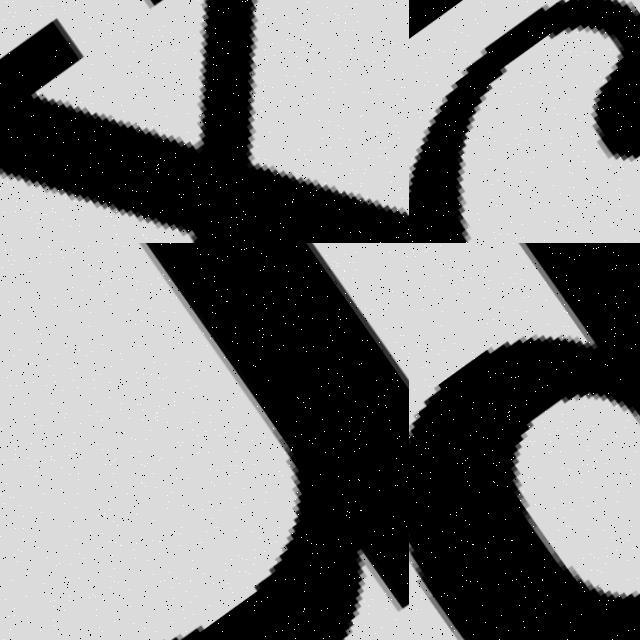5: (409, 0, 640, 243)
P: (409, 243, 640, 640)
R: (0, 243, 409, 640)
X: (0, 0, 409, 243)
